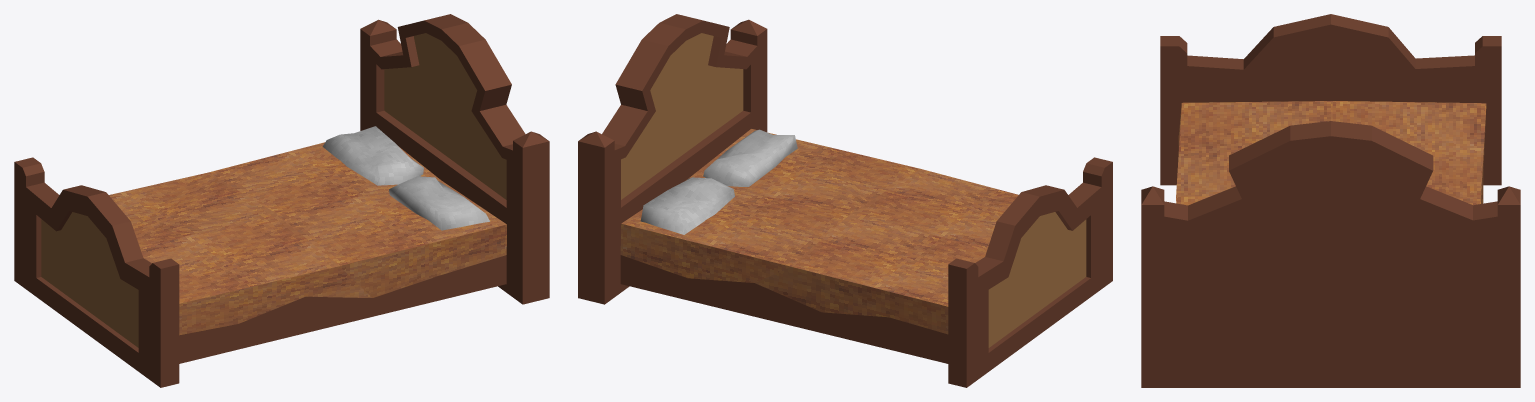
Rendered from WesternBed.glb.
3 renders of one model, left to right at view 1: azimuth 30°, elevation 25°; view 2: azimuth 150°, elevation 25°; view 3: azimuth 270°, elevation 25°, orthographic. The views are drawn at different scales.
Visible parts, largest first — view 1: WesternBed2; view 2: WesternBed2; view 3: WesternBed2.
Part boxes in pixels (bbox=[...]): WesternBed2: bbox=[14, 14, 549, 387]; WesternBed2: bbox=[578, 14, 1112, 387]; WesternBed2: bbox=[1141, 14, 1520, 387].
Size of the model in its own units: 5.4 by 2.96 by 3.99.
Materials: 2 (2 with a texture image).
